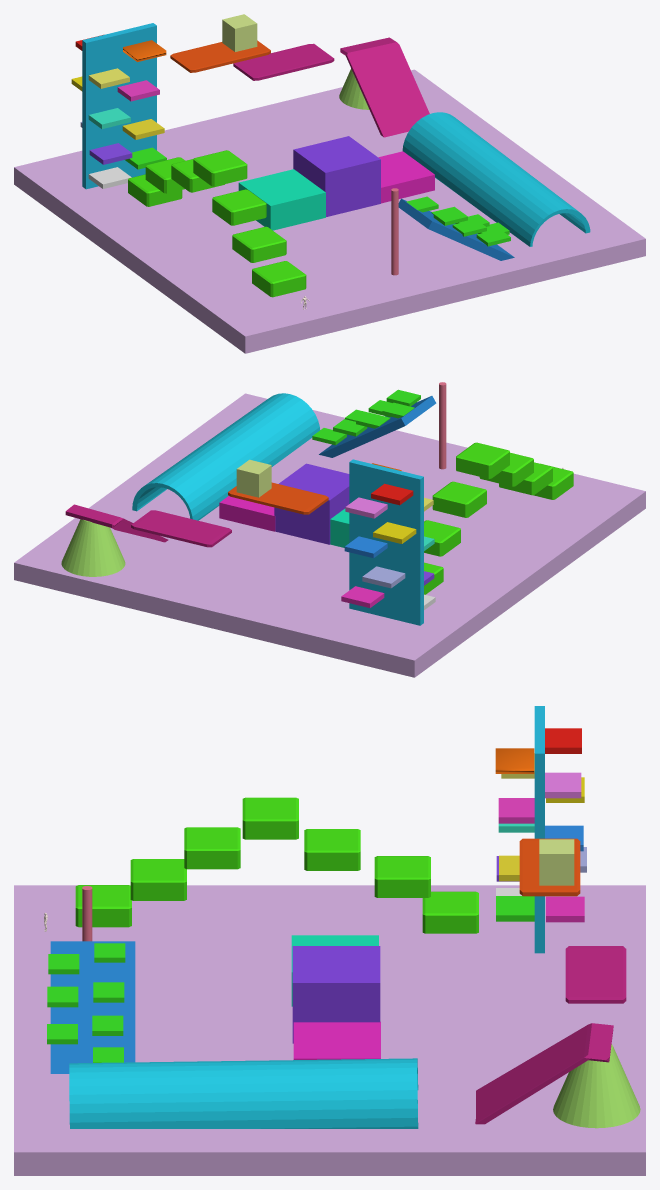
3 renders of one model, top to bottom at view 1: azimuth 30°, elevation 25°; view 2: azimuth 150°, elevation 25°; view 3: azimuth 270°, elevation 25°, orthographic. The views are drawn at different scales.
Parts seen in each view (by area): view 1: Cube, Cilindro.001, Cubo.007, Cubo.025, Cubo.026, Cubo.027, Cubo.024, Cubo.028, Cubo.022, Cubo.003, Cubo.002, Cubo.001 (+16 smaller); view 2: Cube, Cilindro.001, Cubo.007, Cubo.026, Cilindro, Cubo.024, Cubo.022, Cubo.004, Cubo.029, Cubo.003, Cubo.028, Cubo.023 (+13 smaller); view 3: Cube, Cilindro.001, Cubo.026, Cubo.029, Cubo.025, Cilindro, Cubo.024, Cubo.028, Cubo.002, Cubo.003, Cubo.004, Cubo.005 (+17 smaller).
Boxes of the visible parts, bbox=[...] form: Cube: bbox=[14, 69, 645, 353]; Cilindro.001: bbox=[402, 112, 590, 246]; Cubo.007: bbox=[82, 23, 156, 189]; Cubo.025: bbox=[340, 37, 429, 137]; Cubo.026: bbox=[293, 136, 380, 216]; Cubo.027: bbox=[238, 169, 325, 230]; Cubo.024: bbox=[233, 43, 334, 80]; Cubo.028: bbox=[378, 151, 434, 203]; Cubo.022: bbox=[170, 40, 270, 72]; Cubo.003: bbox=[193, 150, 247, 186]; Cubo.002: bbox=[212, 189, 266, 225]; Cubo.001: bbox=[232, 226, 286, 262]; Cube: bbox=[14, 393, 645, 677]; Cilindro.001: bbox=[132, 393, 319, 520]; Cubo.007: bbox=[349, 459, 423, 625]; Cubo.026: bbox=[274, 463, 349, 544]; Cilindro: bbox=[61, 519, 125, 576]; Cubo.024: bbox=[131, 510, 231, 547]; Cubo.022: bbox=[228, 482, 328, 514]; Cubo.004: bbox=[432, 481, 486, 517]; Cubo.029: bbox=[319, 396, 436, 457]; Cubo.003: bbox=[456, 442, 509, 478]; Cubo.028: bbox=[219, 496, 275, 531]; Cubo.023: bbox=[236, 459, 271, 497]; Cube: bbox=[14, 885, 645, 1175]; Cilindro.001: bbox=[69, 1058, 418, 1128]; Cubo.026: bbox=[292, 946, 380, 1043]; Cubo.029: bbox=[50, 941, 135, 1073]; Cubo.025: bbox=[475, 1023, 613, 1124]; Cilindro: bbox=[553, 1044, 640, 1128]; Cubo.024: bbox=[565, 946, 626, 1003]; Cubo.028: bbox=[293, 1021, 380, 1059]; Cubo.002: bbox=[184, 827, 240, 869]; Cubo.003: bbox=[242, 797, 298, 839]; Cubo.004: bbox=[304, 829, 360, 870]; Cubo.005: bbox=[374, 856, 430, 897].
Bounding box in the file's own units: 5928 × 2543 × 5928.
